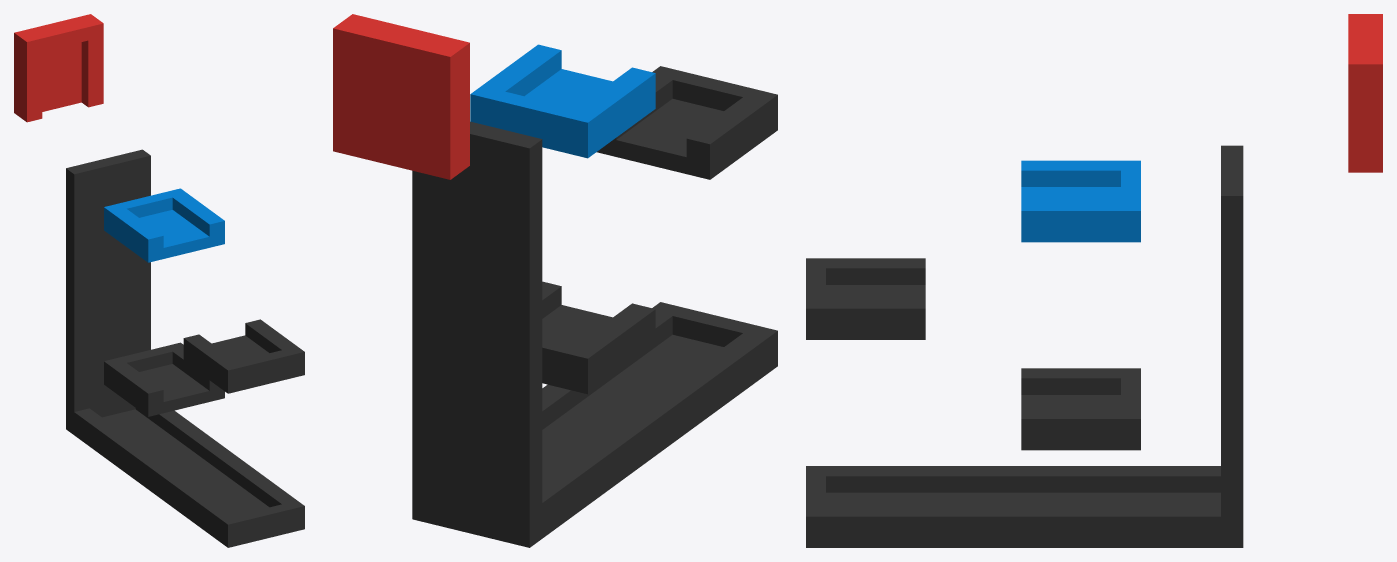
File: level design 1.fbx
The picture shows the model from 3 angles, left to right: view 1: azimuth 30°, elevation 25°; view 2: azimuth 150°, elevation 25°; view 3: azimuth 270°, elevation 25°; orthographic projection. The views are drawn at different scales.
Parts seen in each view (by area): view 1: Cube.003, Cube.004, Cube, Cube.001, Cube.002; view 2: Cube.003, Cube.004, Cube, Cube.001, Cube.002; view 3: Cube.003, Cube, Cube.002, Cube.001, Cube.004.
Part boxes in pixels (box(x1,y1,x2,y2)): Cube.003: box(66, 149, 304, 547); Cube.004: box(14, 14, 103, 122); Cube: box(104, 188, 224, 262); Cube.001: box(183, 319, 304, 393); Cube.002: box(104, 342, 224, 416); Cube.003: box(412, 121, 777, 547); Cube.004: box(333, 14, 469, 179); Cube: box(470, 44, 655, 158); Cube.001: box(596, 66, 777, 179); Cube.002: box(542, 281, 655, 394); Cube.003: box(806, 145, 1243, 547); Cube: box(1021, 160, 1140, 242); Cube.002: box(1021, 368, 1140, 450); Cube.001: box(806, 258, 925, 339); Cube.004: box(1348, 14, 1382, 172).
Size of the model in its own units: 2 by 8.93 by 9.66.
